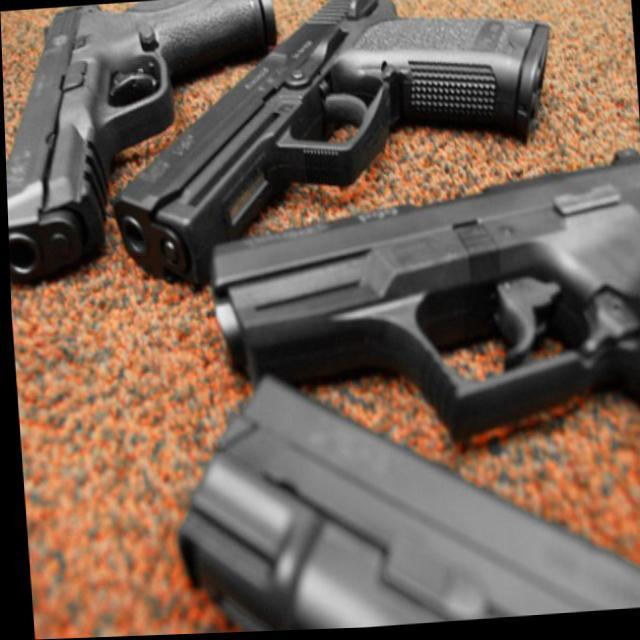weapon: (199, 150, 640, 476), (95, 0, 565, 293), (161, 350, 640, 636), (0, 0, 290, 284)
